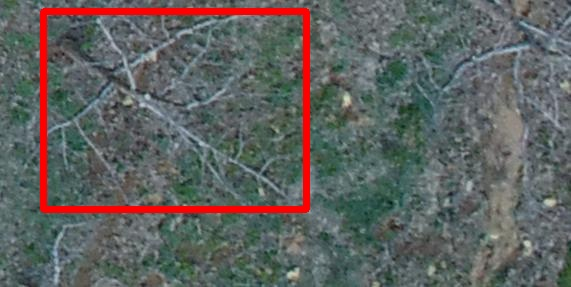apple: (43, 11, 306, 209)
